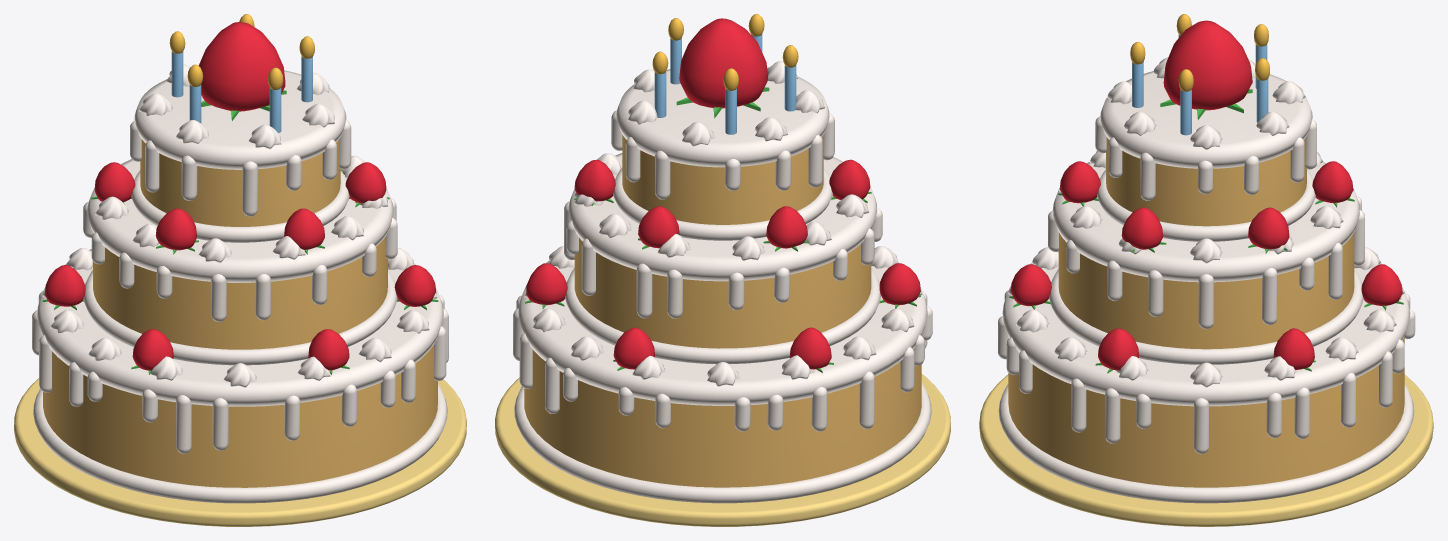
Rendered from CakeTiered.obj.
The picture shows the model from 3 angles, left to right: view 1: azimuth 30°, elevation 25°; view 2: azimuth 150°, elevation 25°; view 3: azimuth 270°, elevation 25°; orthographic projection.
Visible parts, largest first — view 1: Sponge, Cream, Drips, Berries, Board, Piping, Candles, Flames, BerryLeaves; view 2: Sponge, Cream, Berries, Drips, Board, Piping, Candles, Flames, BerryLeaves; view 3: Sponge, Cream, Drips, Berries, Board, Piping, Candles, Flames, BerryLeaves.
Part boxes in pixels (x1=…): Sponge: x1=43, y1=139, x2=437, y2=487; Cream: x1=33, y1=70, x2=447, y2=503; Drips: x1=32, y1=120, x2=448, y2=453; Berries: x1=45, y1=22, x2=435, y2=370; Board: x1=14, y1=378, x2=466, y2=526; Piping: x1=42, y1=64, x2=437, y2=387; Candles: x1=171, y1=51, x2=312, y2=133; Flames: x1=169, y1=14, x2=314, y2=89; BerryLeaves: x1=42, y1=90, x2=438, y2=374; Sponge: x1=524, y1=135, x2=921, y2=487; Cream: x1=514, y1=67, x2=931, y2=503; Berries: x1=526, y1=18, x2=920, y2=369; Drips: x1=513, y1=110, x2=932, y2=431; Board: x1=495, y1=374, x2=950, y2=526; Piping: x1=524, y1=61, x2=922, y2=386; Candles: x1=654, y1=34, x2=796, y2=134; Flames: x1=652, y1=14, x2=798, y2=90; BerryLeaves: x1=525, y1=87, x2=920, y2=372; Sponge: x1=1008, y1=137, x2=1404, y2=487; Cream: x1=998, y1=71, x2=1414, y2=503; Drips: x1=998, y1=116, x2=1415, y2=454; Berries: x1=1010, y1=20, x2=1402, y2=370; Board: x1=979, y1=374, x2=1433, y2=526; Piping: x1=1008, y1=57, x2=1404, y2=387; Candles: x1=1132, y1=34, x2=1268, y2=135; Flames: x1=1130, y1=14, x2=1269, y2=91; BerryLeaves: x1=1009, y1=89, x2=1403, y2=373.
Size of the model in its own units: 17.2 by 17.15 by 17.2.
